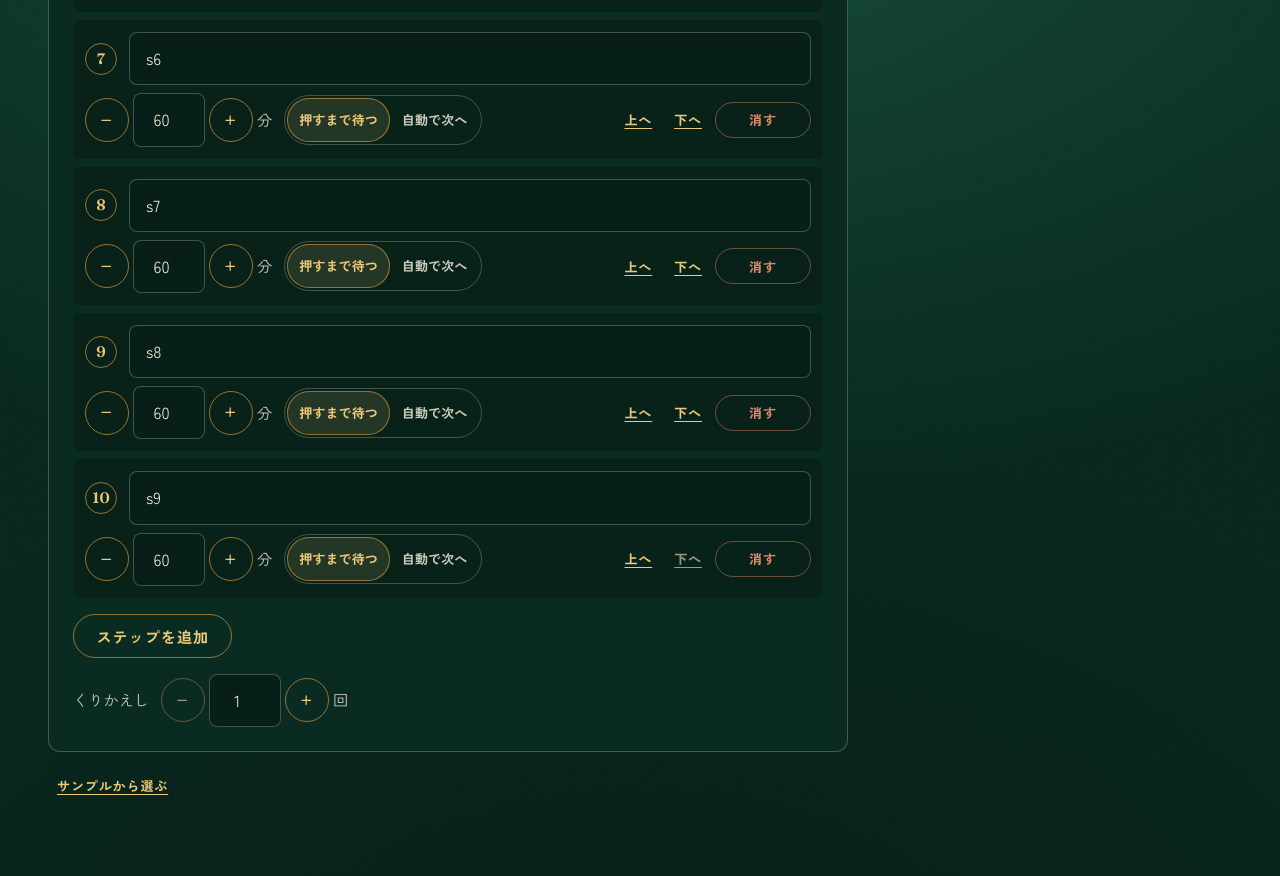
組む画面 › Given 回数 6 で 10 ステップ / When 見る / Then 追加ボタンは無効で、60 の上限の注記が出る（定義の数の注記ではない）
(page scrolled)
Replace the text in the number field labelled "くりかえし" with "6" at coordinates (245, 700), box [209,674,281,727]
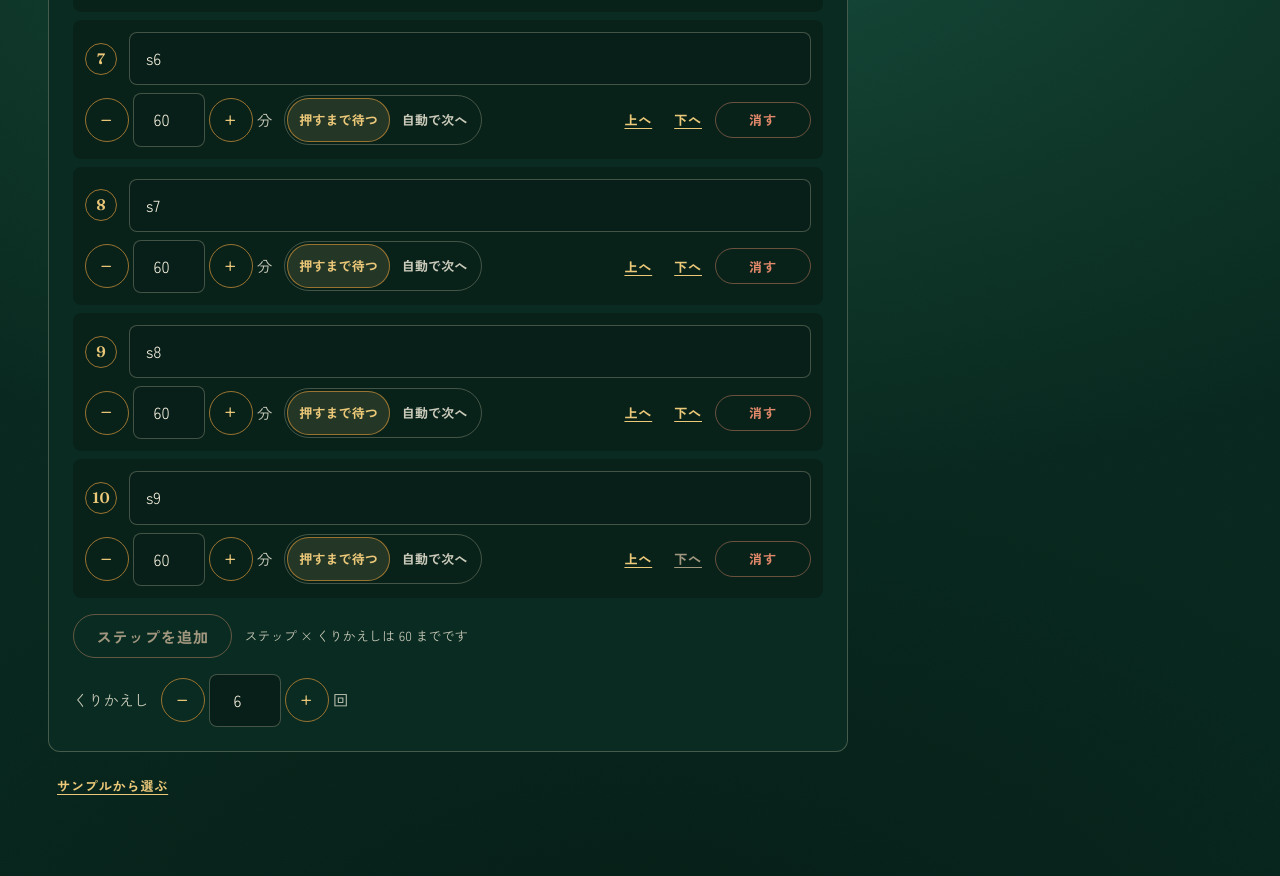
Expected: the button "ステップを追加" is disabled, [73,614,232,658]
